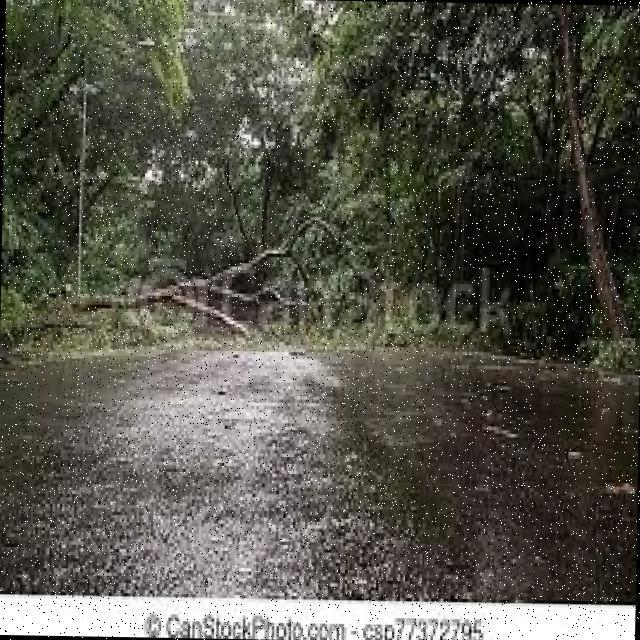fallen_object: (21, 188, 410, 350)
